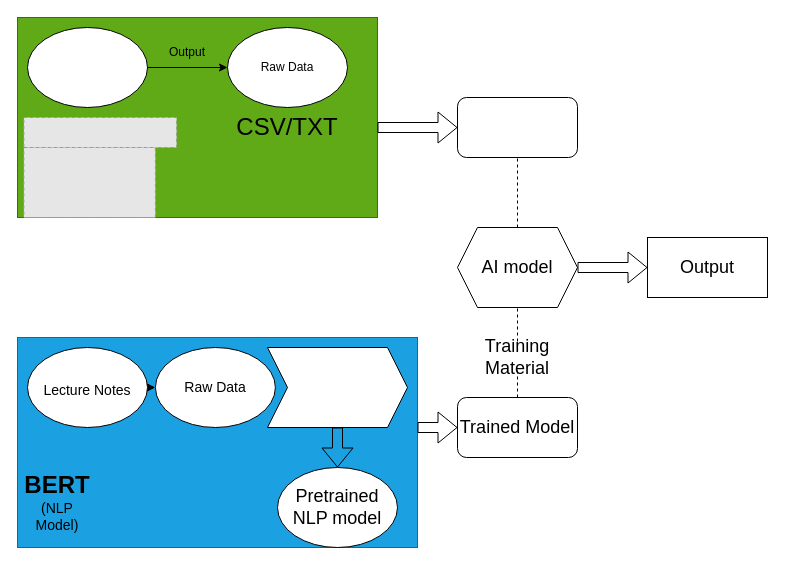
Image size: 785x565. Some labels were removed from this diagram. Grey dashed boxes stand in for pictures. Here are the shapes that lost their labels. From the top down, the centre of each, then its label:
At [87,67]: "Speech-To-Text Service".
At [517,127]: "AI model(RNN/LSTM) Input Data".
At [337,387]: "Tokenization (Give weight)".
